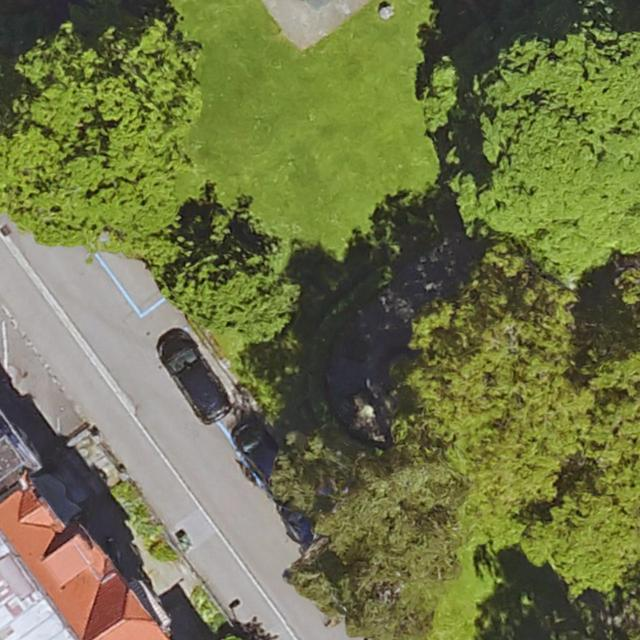tree: (394, 238, 640, 586), (427, 0, 640, 248), (0, 0, 200, 241), (289, 445, 464, 640), (157, 200, 296, 350)
